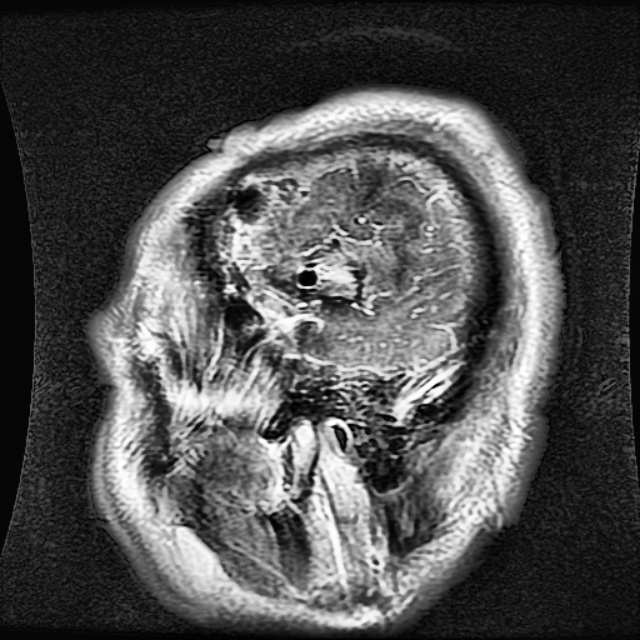Meningioma: (297, 254, 362, 300)
